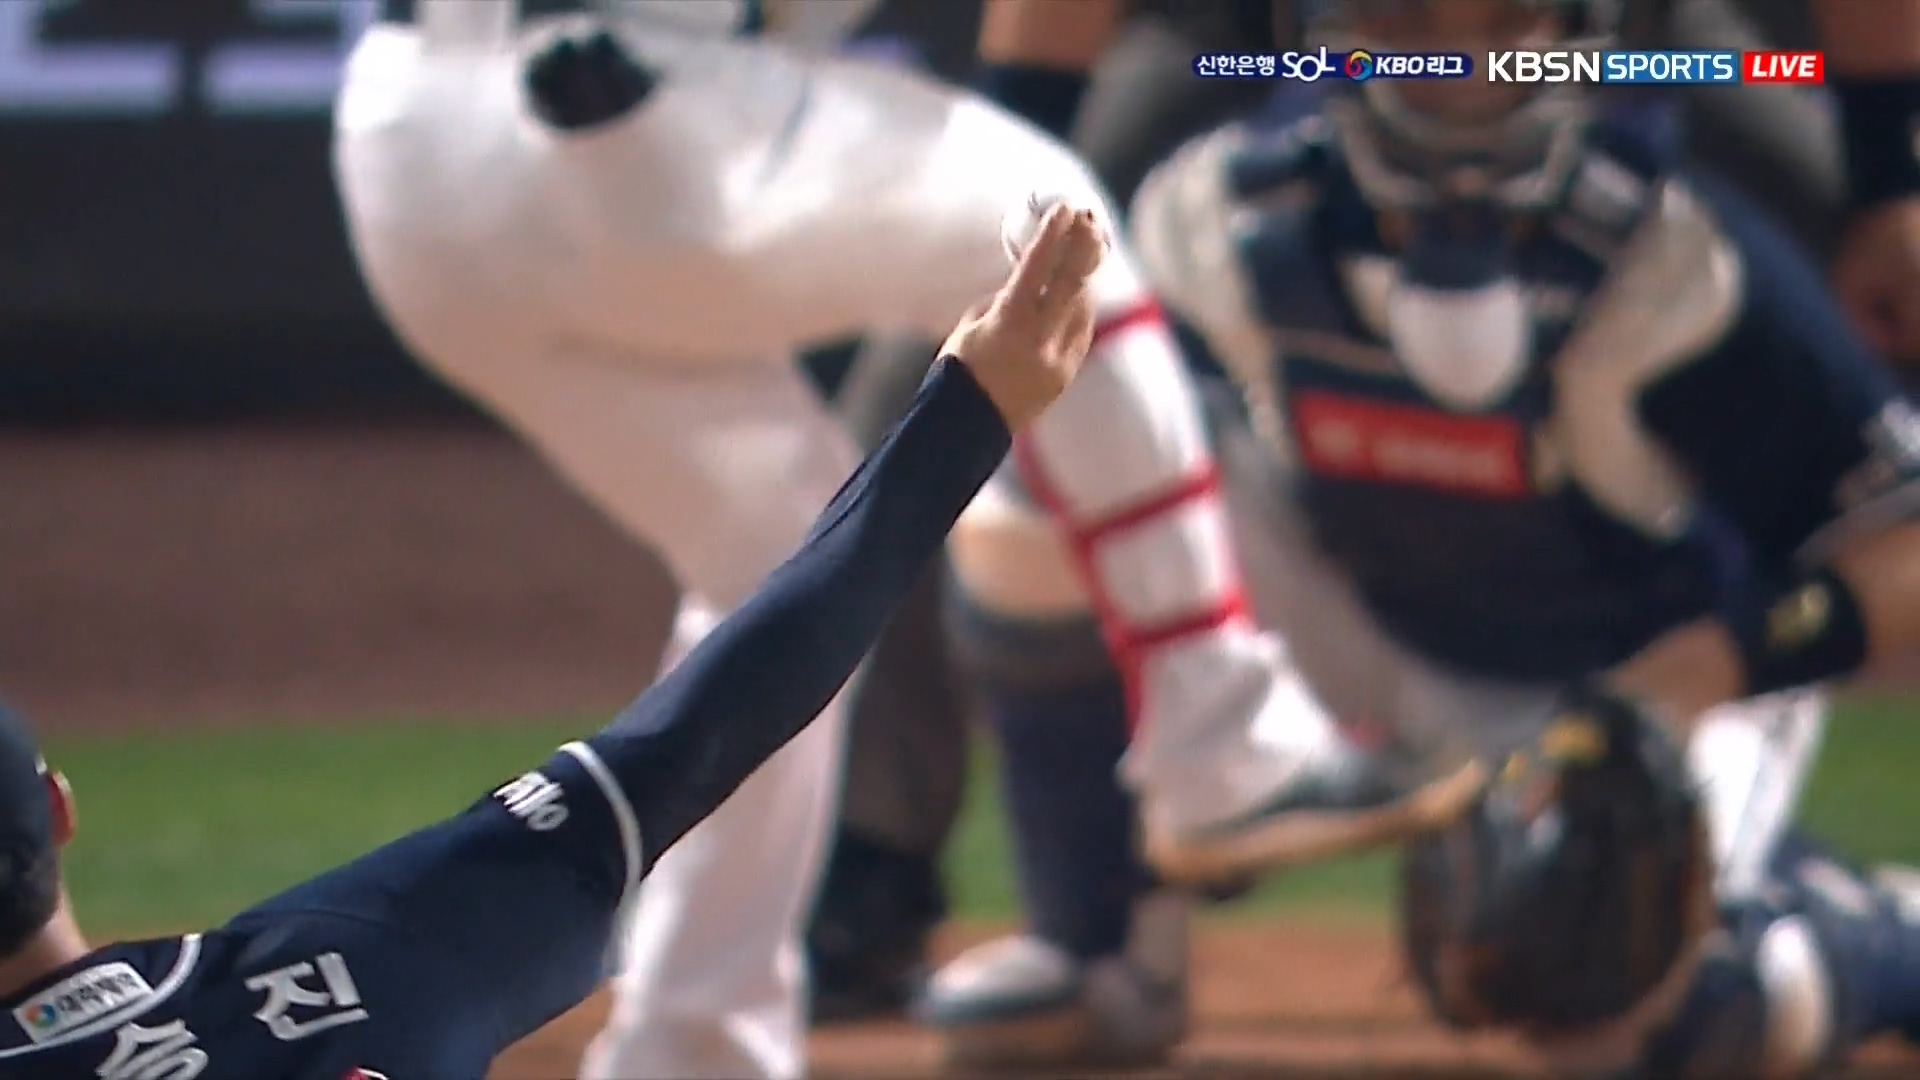zoomin_hand: (637, 178, 1122, 849)
